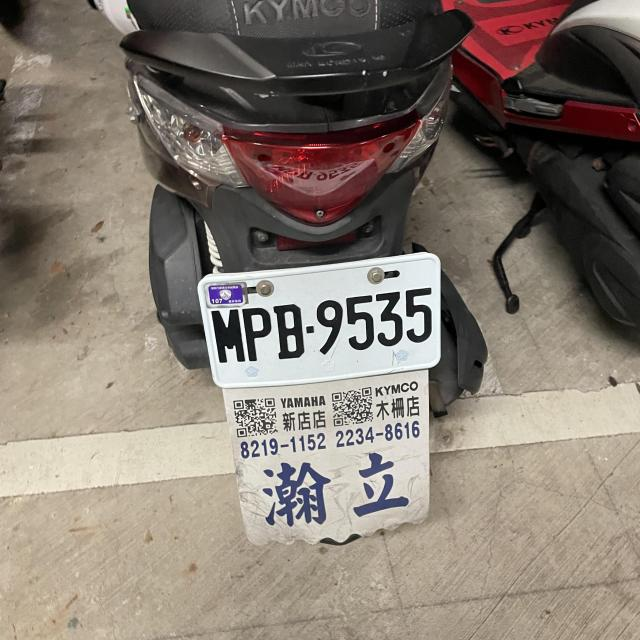W: (196, 255, 442, 391)
